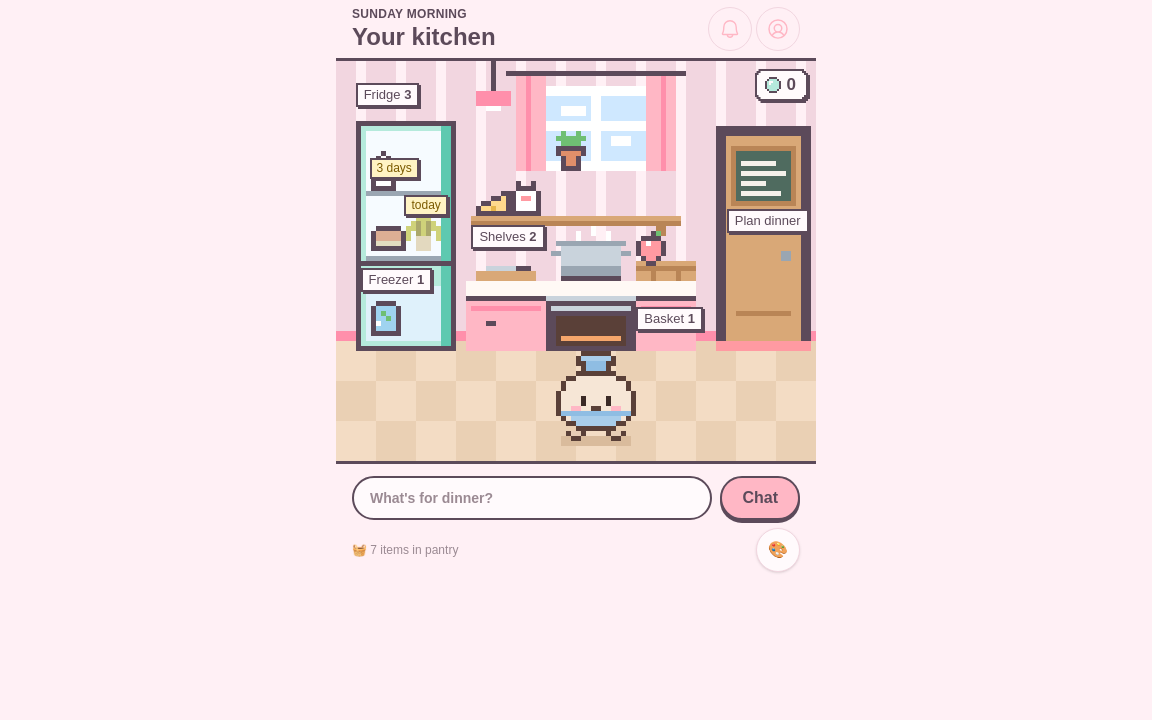
opening a place › Shelves opens its own sheet, on its own tab
Click the button with aria-label "Shelves, 2 items".
click(576, 196)  # box [471, 166, 681, 226]
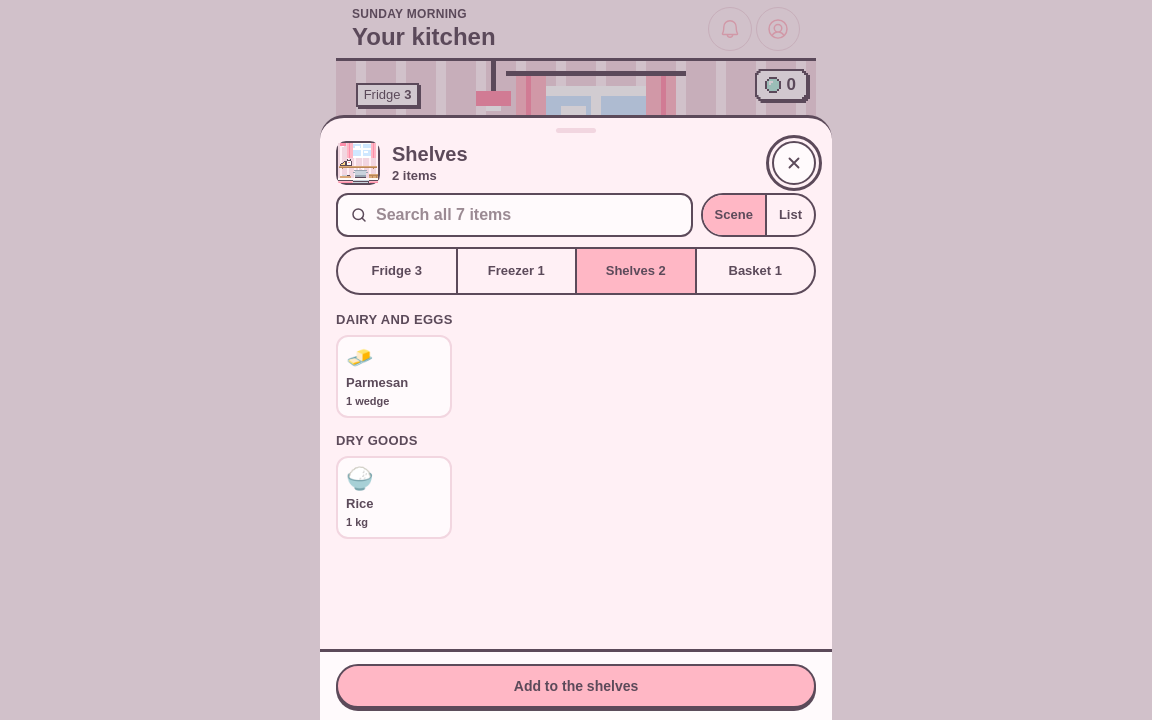
Result: the heading "Shelves" is shown at [392, 143, 468, 165]
